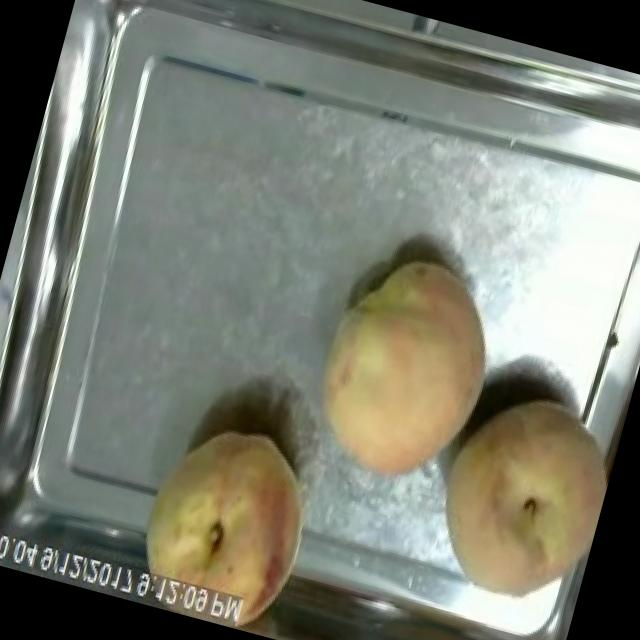Fruit: (288, 232, 524, 508), (404, 368, 626, 628), (120, 400, 338, 630)
